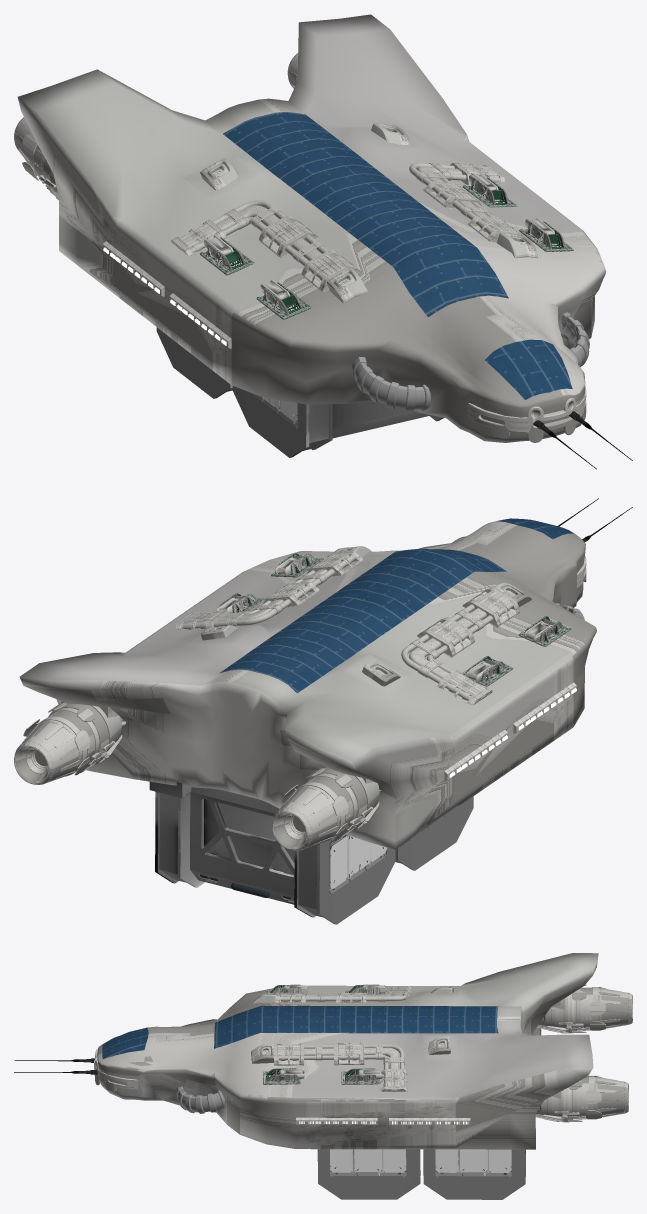
File: zanzibus.glb
3 views of the same model, one above another, from view 1: azimuth 30°, elevation 25°; view 2: azimuth 150°, elevation 25°; view 3: azimuth 270°, elevation 25° (orthographic). The views are drawn at different scales.
Visible parts, largest first — view 1: Industrial kitbash_80_grey_0.002_sci-fi d880mat.003_0, Cube.001_Sci-fi GlassBlueTransparent_0, Cube.053_side_pannel_0, Industrial kitbash_80_grey_0.002_Green and white spacestatio, cable.029_sci-fi d880Mat.019_0, Component_19_M_TerminusGate_Pillar1_0_sci-fi d880mat.003_0; view 2: Industrial kitbash_80_grey_0.002_sci-fi d880mat.003_0, Cube.053_side_pannel_0, Cube.001_Sci-fi GlassBlueTransparent_0, Industrial kitbash_80_grey_0.002_Green and white spacestatio, Component_19_M_TerminusGate_Pillar1_0_sci-fi d880mat.003_0; view 3: Industrial kitbash_80_grey_0.002_sci-fi d880mat.003_0, Cube.053_side_pannel_0, Cube.001_Sci-fi GlassBlueTransparent_0, Industrial kitbash_80_grey_0.002_Green and white spacestatio, Component_19_M_TerminusGate_Pillar1_0_sci-fi d880mat.003_0, cable.029_sci-fi d880Mat.019_0.
Part boxes in pixels (<box>): Industrial kitbash_80_grey_0.002_sci-fi d880mat.003_0: <box>14,14,606,442</box>; Cube.001_Sci-fi GlassBlueTransparent_0: <box>223,112,572,399</box>; Cube.053_side_pannel_0: <box>156,327,443,457</box>; Industrial kitbash_80_grey_0.002_Green and white spacestatio: <box>200,177,573,319</box>; cable.029_sci-fi d880Mat.019_0: <box>351,312,589,411</box>; Component_19_M_TerminusGate_Pillar1_0_sci-fi d880mat.003_0: <box>102,241,231,348</box>; Industrial kitbash_80_grey_0.002_sci-fi d880mat.003_0: <box>14,521,596,850</box>; Cube.053_side_pannel_0: <box>149,781,473,924</box>; Cube.001_Sci-fi GlassBlueTransparent_0: <box>219,518,573,693</box>; Industrial kitbash_80_grey_0.002_Green and white spacestatio: <box>219,553,571,686</box>; Component_19_M_TerminusGate_Pillar1_0_sci-fi d880mat.003_0: <box>444,682,576,781</box>; Industrial kitbash_80_grey_0.002_sci-fi d880mat.003_0: <box>94,953,632,1149</box>; Cube.053_side_pannel_0: <box>317,1149,525,1199</box>; Cube.001_Sci-fi GlassBlueTransparent_0: <box>102,1005,498,1059</box>; Industrial kitbash_80_grey_0.002_Green and white spacestatio: <box>263,984,382,1084</box>; Component_19_M_TerminusGate_Pillar1_0_sci-fi d880mat.003_0: <box>296,1006,470,1124</box>; cable.029_sci-fi d880Mat.019_0: <box>176,1086,224,1113</box>.
Bounding box in the file's own units: 5.96 × 3.99 × 13.07.
13 materials, 13 textured.
